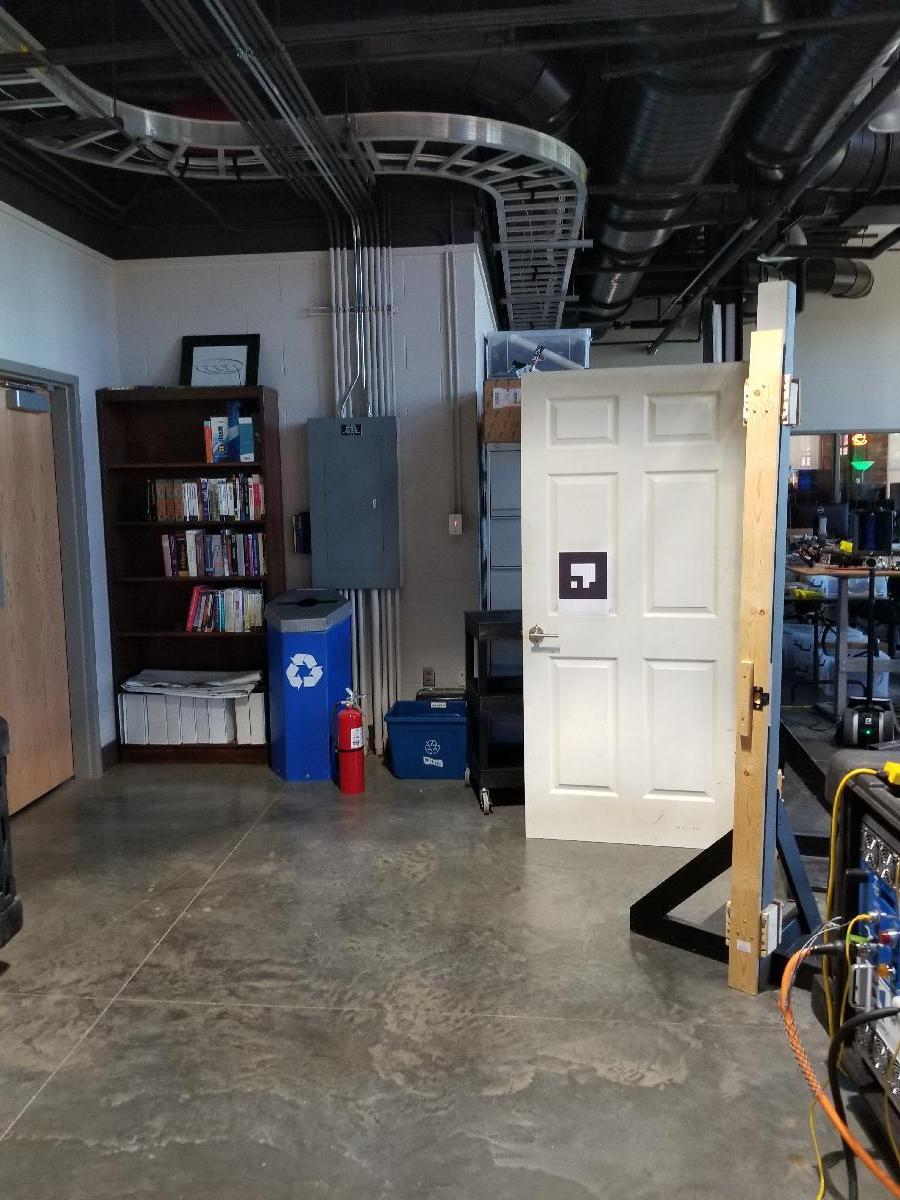door: (515, 366, 746, 844), (3, 386, 80, 813)
handle: (526, 620, 562, 649)
